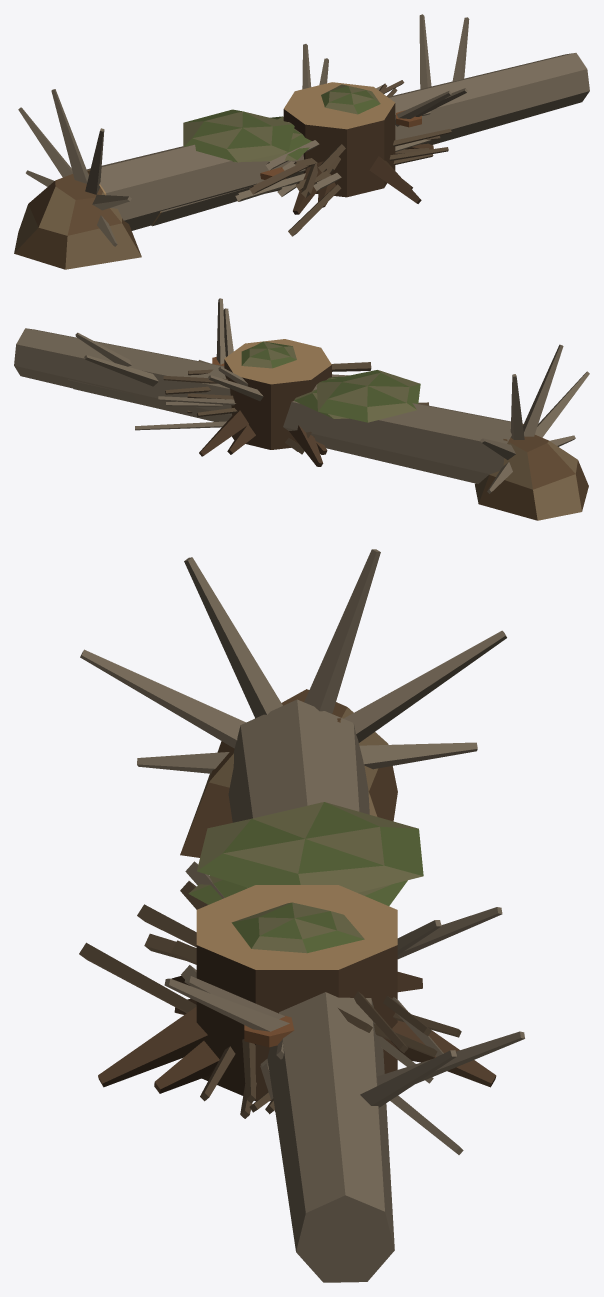
Rendered from natur_holz.glb.
3 renders of one model, top to bottom at view 1: azimuth 30°, elevation 25°; view 2: azimuth 150°, elevation 25°; view 3: azimuth 270°, elevation 25°, orthographic. The views are drawn at different scales.
Parts seen in each view (by area): view 1: Totholz1, Stumpf1, Totholz2, Reisighaufen1, Reisighaufen2; view 2: Totholz1, Stumpf1, Totholz2, Reisighaufen1, Reisighaufen2, Stumpf2; view 3: Totholz1, Stumpf1, Reisighaufen1, Totholz2, Reisighaufen2, Stumpf2.
Part boxes in pixels (x1=…): Totholz1: x1=14, y1=17, x2=589, y2=269; Stumpf1: x1=283, y1=82, x2=433, y2=214; Totholz2: x1=151, y1=14, x2=451, y2=226; Reisighaufen1: x1=235, y1=80, x2=448, y2=236; Reisighaufen2: x1=294, y1=83, x2=451, y2=197; Totholz1: x1=14, y1=298, x2=589, y2=520; Stumpf1: x1=199, y1=339, x2=331, y2=466; Totholz2: x1=68, y1=308, x2=348, y2=418; Reisighaufen1: x1=135, y1=374, x2=428, y2=430; Reisighaufen2: x1=165, y1=360, x2=371, y2=454; Stumpf2: x1=227, y1=424, x2=327, y2=454; Totholz1: x1=80, y1=549, x2=506, y2=1282; Stumpf1: x1=98, y1=885, x2=496, y2=1101; Reisighaufen1: x1=79, y1=861, x2=463, y2=1154; Totholz2: x1=184, y1=875, x2=524, y2=1085; Reisighaufen2: x1=137, y1=904, x2=461, y2=1114; Stumpf2: x1=154, y1=998, x2=421, y2=1093.
Bounding box in the file's own units: 5.26 × 1.24 × 1.85.
